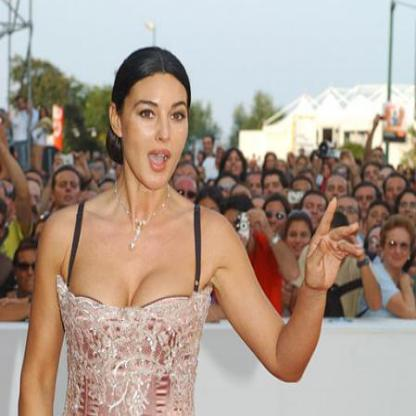face: (122, 52, 192, 191), (16, 242, 48, 294), (386, 221, 414, 270), (265, 196, 292, 240), (288, 214, 313, 259), (56, 167, 82, 209), (334, 197, 361, 236), (356, 184, 381, 222), (304, 191, 328, 230), (369, 228, 392, 267), (370, 203, 393, 239), (327, 176, 350, 211), (264, 171, 286, 207), (386, 175, 408, 210), (224, 150, 245, 180), (247, 174, 267, 204), (364, 164, 383, 190), (372, 149, 387, 170), (266, 155, 279, 174), (204, 137, 215, 154), (298, 158, 309, 175)
